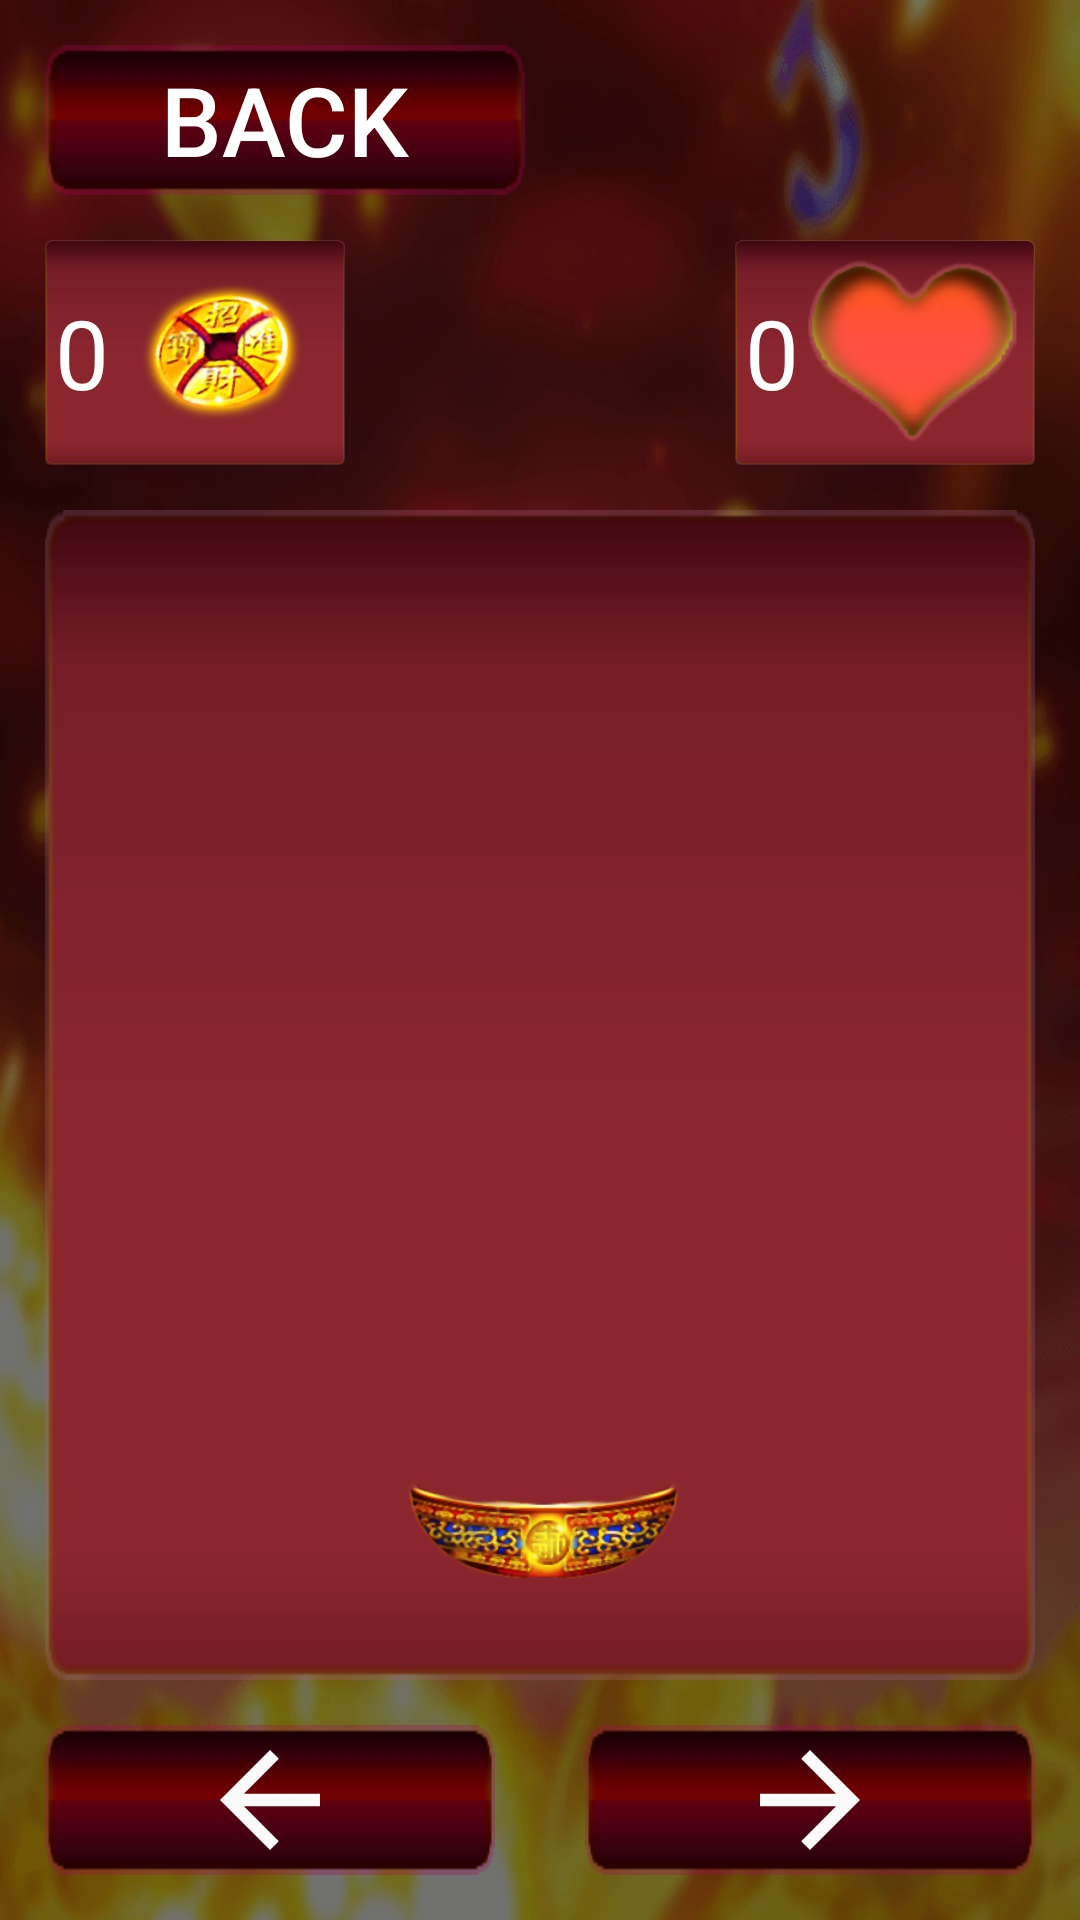

Icon click points for this 1080px x 1920px phone screenshot, format (x,y):
bonus: (221,352)
life: (911,352)
